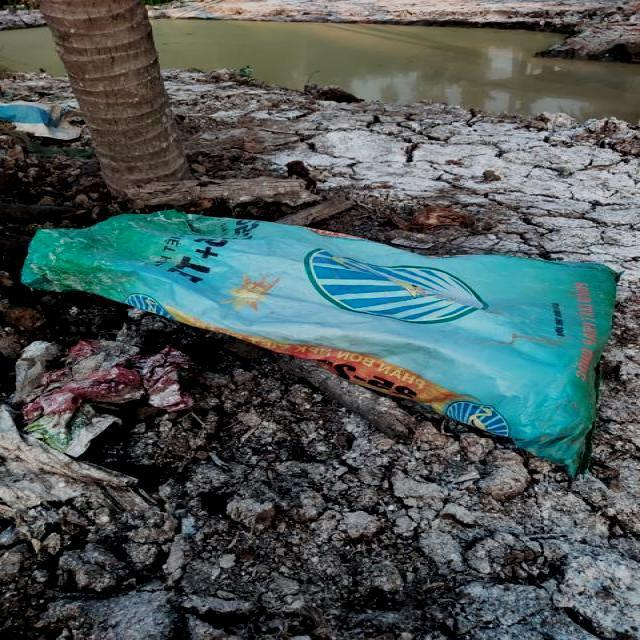gunny_bag: (20, 210, 617, 476)
